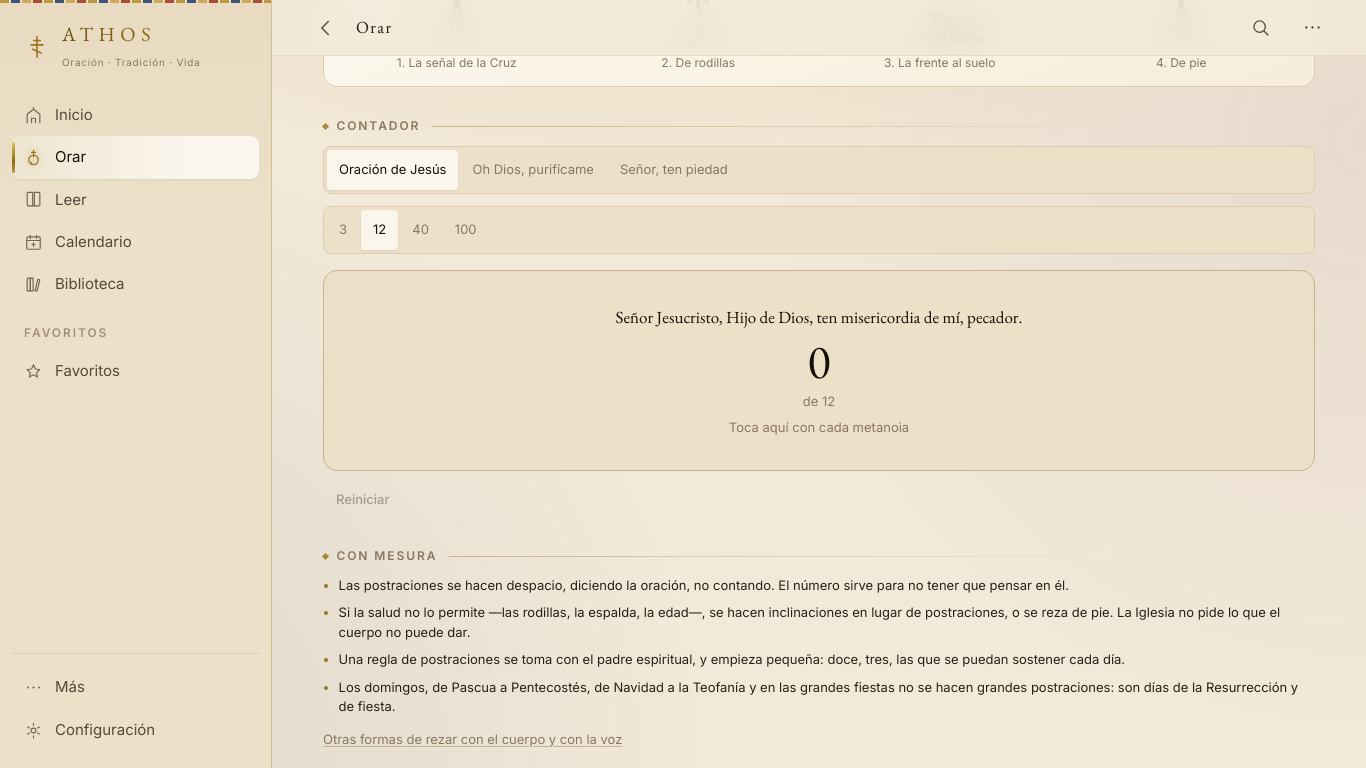
Test: las pantallas › las metanoias dicen si hoy hay postraciones y cuentan
(page scrolled)
Click the button with aria-label "Contar una metanoia" at [819, 371], box [323,270,1315,472]
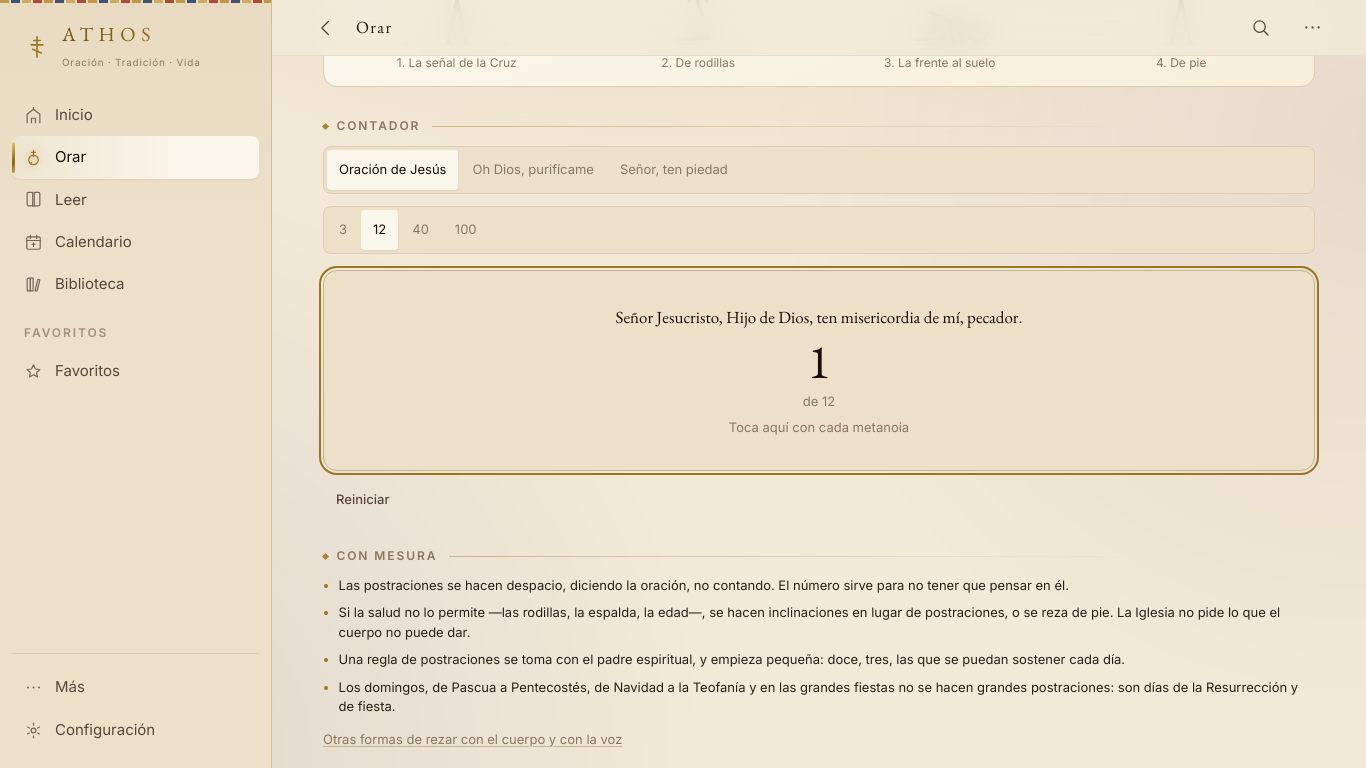
Click the button with aria-label "Contar una metanoia" at [819, 371], box [323,270,1315,472]
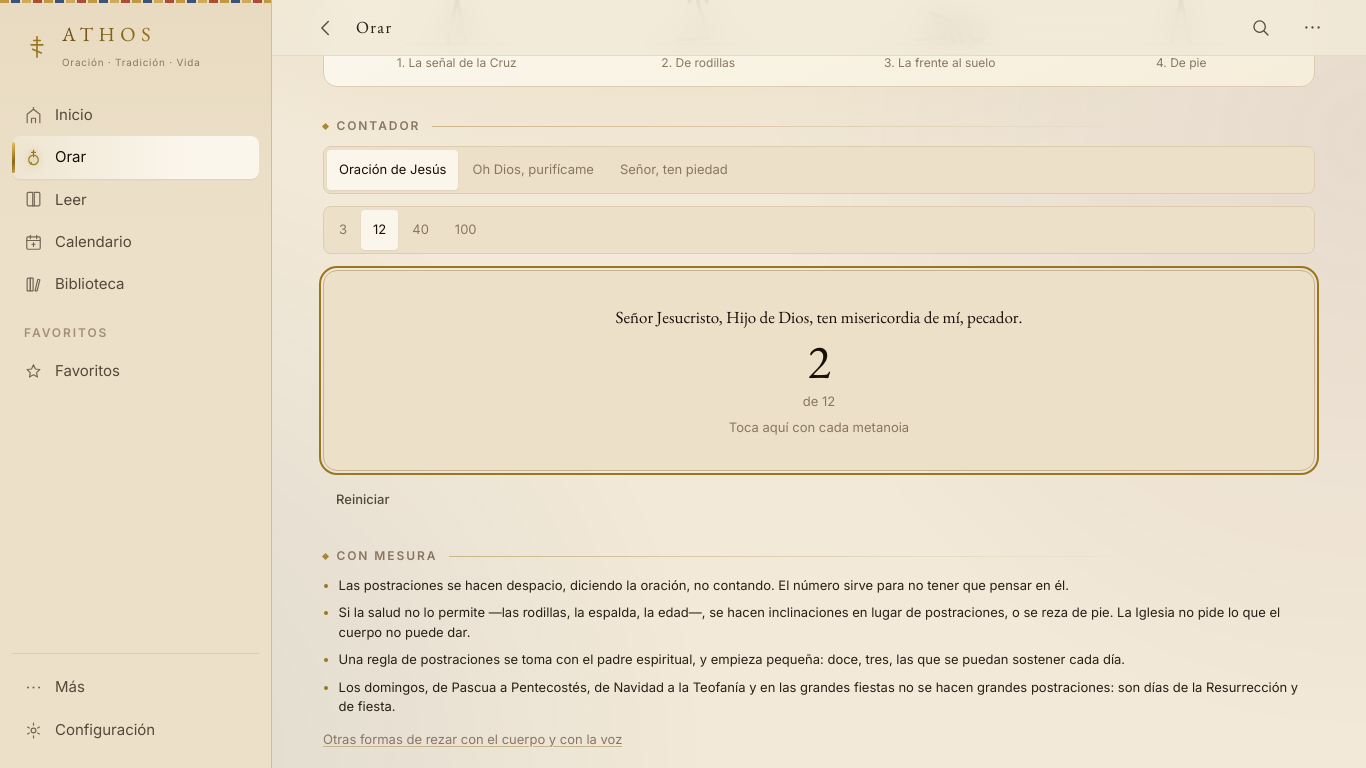
Result: the button with aria-label "Llevas 2 de 12" is shown at [323,270,1315,472]
